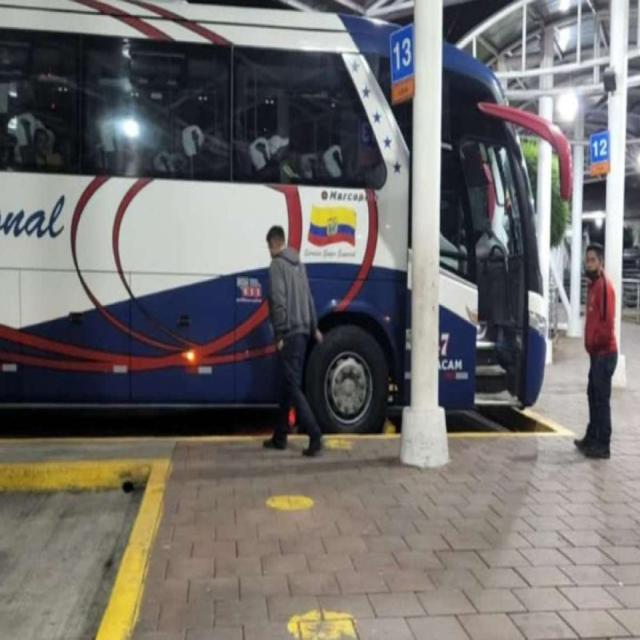BUS: (2, 0, 592, 440)
